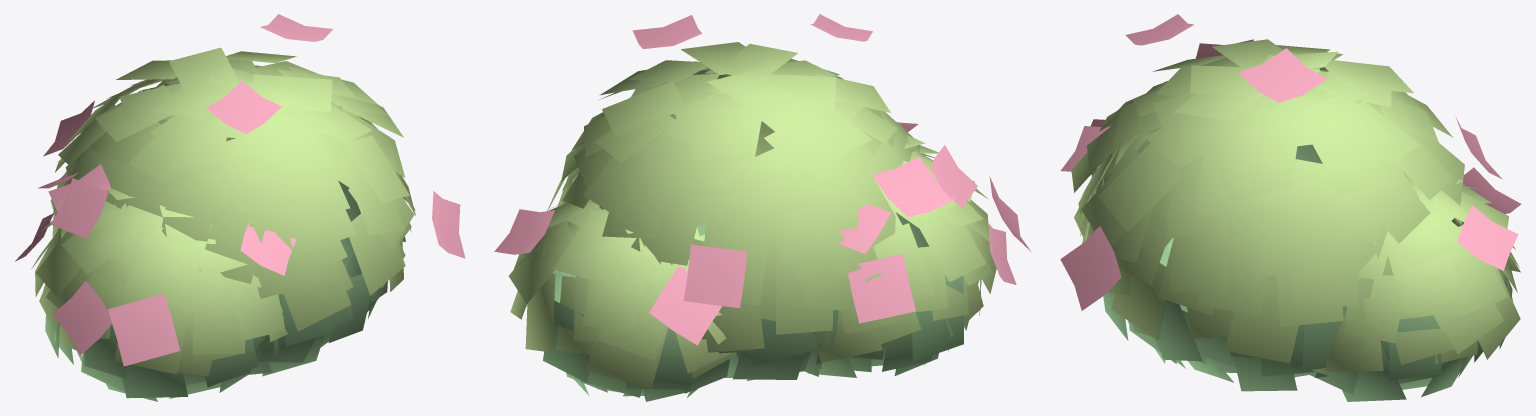
The model's file is plant_bush_c.glb.
3 views of the same model, side by side, from view 1: azimuth 30°, elevation 25°; view 2: azimuth 150°, elevation 25°; view 3: azimuth 270°, elevation 25° (orthographic). The views are drawn at different scales.
Parts seen in each view (by area): view 1: plant_bush_2; view 2: plant_bush_2; view 3: plant_bush_2.
Part boxes in pixels (<box>): plant_bush_2: <box>15,14,465,401</box>; plant_bush_2: <box>494,14,1030,401</box>; plant_bush_2: <box>1060,14,1521,401</box>.
Size of the model in its own units: 1.84 by 1.39 by 1.8.
